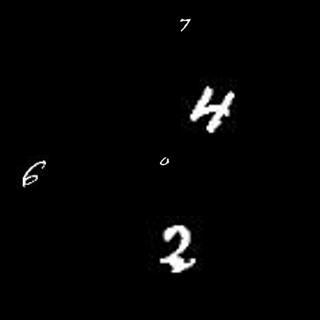four: (191, 86, 237, 137)
seven: (177, 16, 193, 33)
six: (21, 158, 49, 189)
two: (158, 224, 197, 271)
zero: (157, 152, 175, 167)
